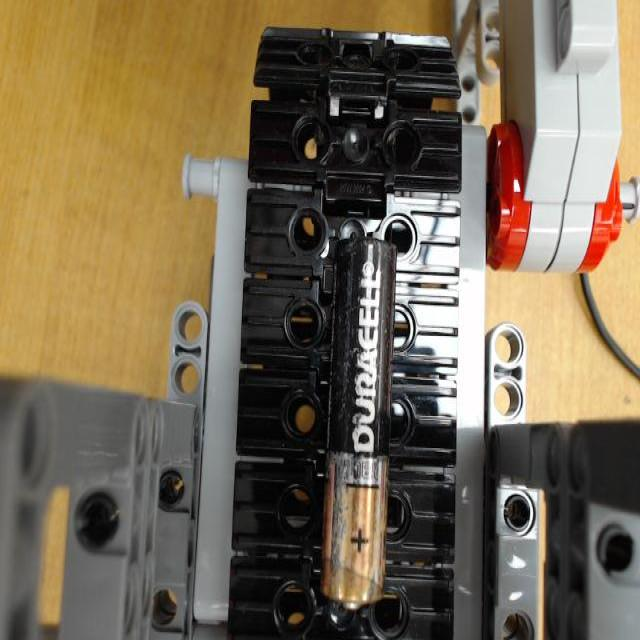AAA: (320, 233, 396, 611)
